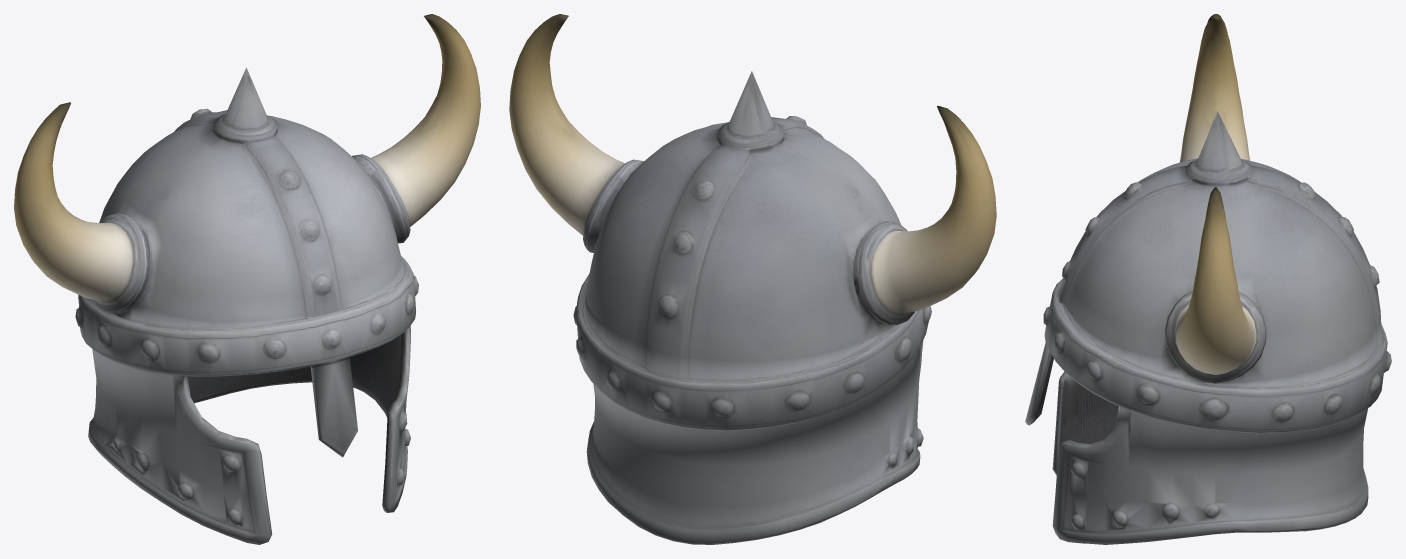
Rendered from VikingHelmet.fbx.
The picture shows the model from 3 angles, left to right: view 1: azimuth 30°, elevation 25°; view 2: azimuth 150°, elevation 25°; view 3: azimuth 270°, elevation 25°; orthographic projection. The views are drawn at different scales.
Visible parts, largest first — view 1: mesh_rep_0_ori_repair_quad; view 2: mesh_rep_0_ori_repair_quad; view 3: mesh_rep_0_ori_repair_quad.
Part boxes in pixels (x1=…): mesh_rep_0_ori_repair_quad: x1=14, y1=14, x2=480, y2=544; mesh_rep_0_ori_repair_quad: x1=509, y1=14, x2=996, y2=544; mesh_rep_0_ori_repair_quad: x1=1025, y1=14, x2=1391, y2=544.
Bounding box in the file's own units: 30.18 × 25.88 × 21.22.
1 material, 1 textured.
